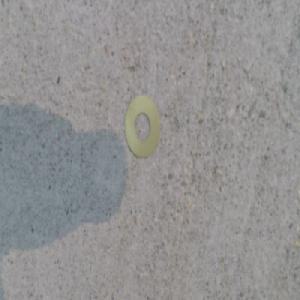Washer: (124, 95, 161, 162)
